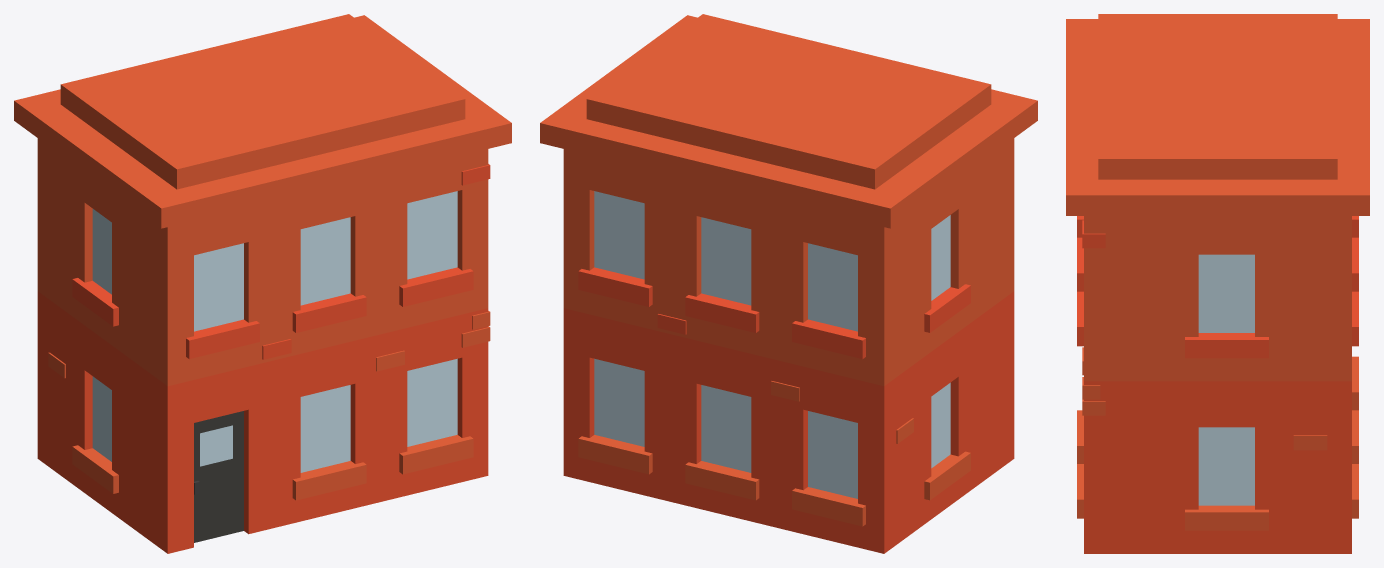
The model's file is city_building_6.glb.
3 renders of one model, left to right at view 1: azimuth 30°, elevation 25°; view 2: azimuth 150°, elevation 25°; view 3: azimuth 270°, elevation 25°, orthographic. The views are drawn at different scales.
Parts seen in each view (by area): view 1: Building_4; view 2: Building_4; view 3: Building_4.
Boxes of the visible parts, <box> form: Building_4: <box>14,14,511,553</box>; Building_4: <box>540,14,1037,553</box>; Building_4: <box>1066,14,1369,553</box>.
Bounding box in the file's own units: 3.57 × 3.66 × 2.6.
Materials: 1 (1 with a texture image).
